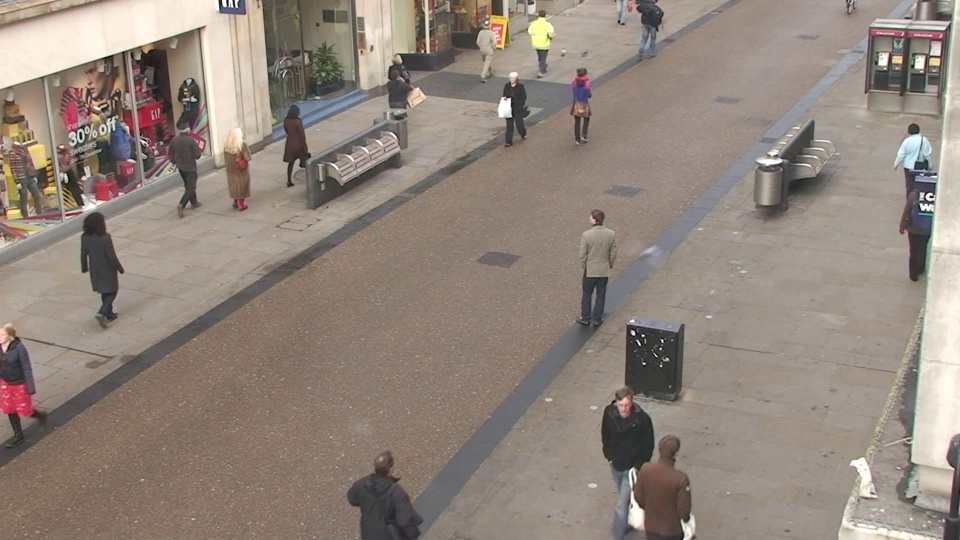pedestrian: (598, 383, 652, 540), (638, 424, 697, 540), (356, 441, 419, 540), (75, 209, 127, 327), (578, 203, 616, 323), (888, 119, 933, 219), (168, 117, 207, 211), (220, 122, 258, 217), (279, 101, 312, 191), (382, 67, 412, 148), (501, 69, 529, 151), (383, 52, 412, 130), (568, 63, 595, 145), (475, 17, 499, 85), (529, 7, 552, 73)
